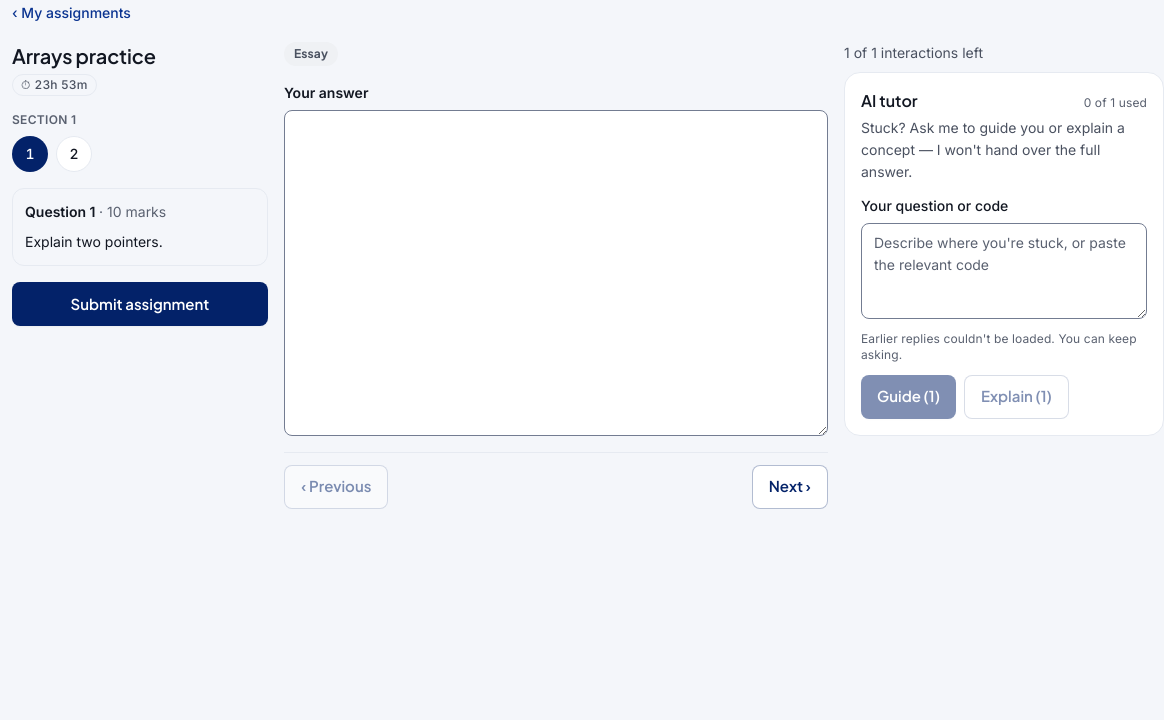
Scenario: StructuredAssignment workspace › shows a clear state for ai_unavailable
Type "Help" into the text box labelled "Your question or code" at (1004, 271), box left=861, top=223, right=1147, bottom=319
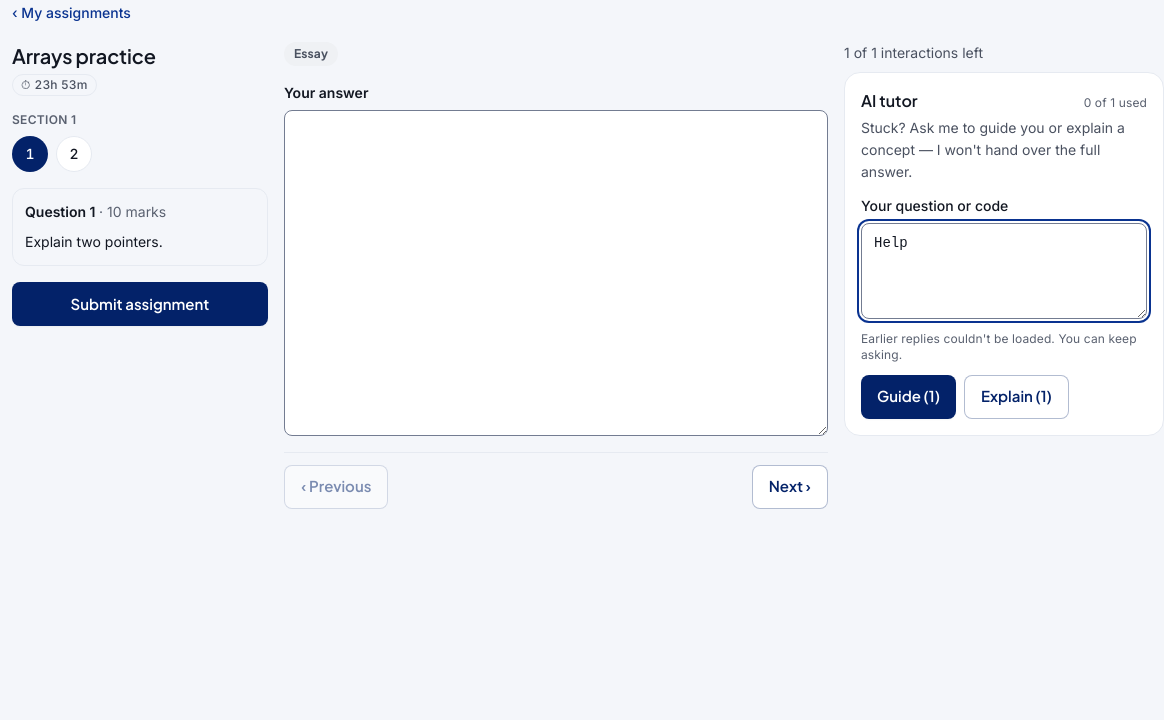
Click the button "Explain (1)" at (1016, 397), box left=964, top=375, right=1069, bottom=419
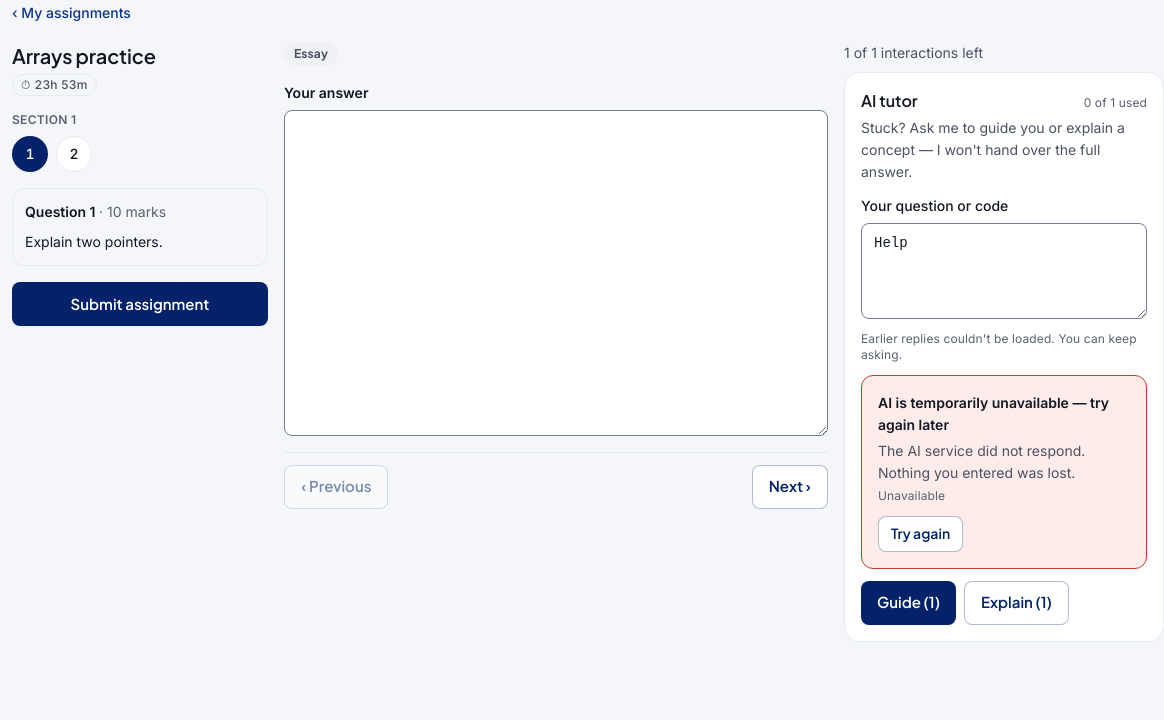
Now the text "AI is temporarily unavailable — try again later" is shown, box left=878, top=392, right=1130, bottom=436
